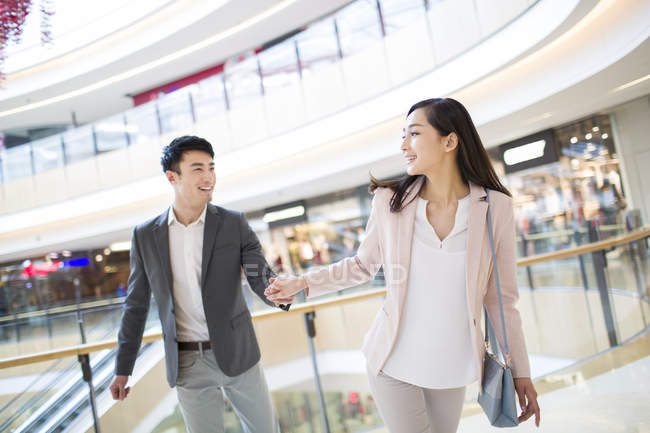Person: (274, 96, 547, 433), (110, 133, 290, 433)
